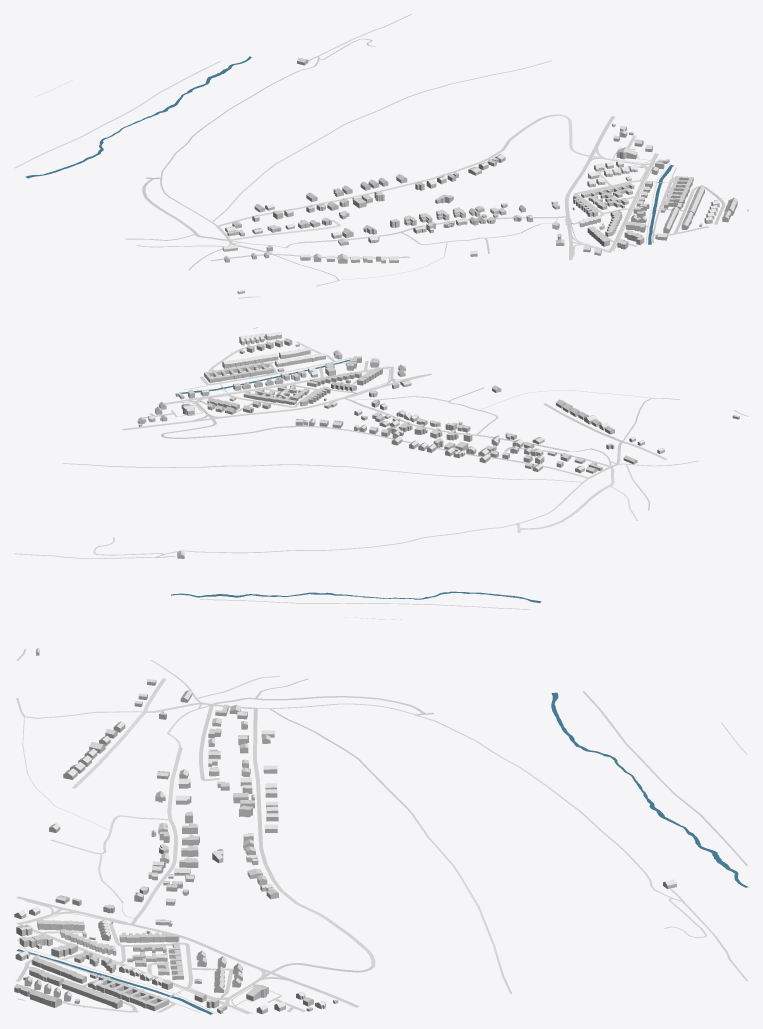
File: objekty.glb
The picture shows the model from 3 angles, top to bottom: view 1: azimuth 30°, elevation 25°; view 2: azimuth 150°, elevation 25°; view 3: azimuth 270°, elevation 25°; orthographic projection. The views are drawn at different scales.
Visible parts, largest first — view 1: Budovy_05_04, Cesty_05_04, Okna_Dvere_05_04, Voda_05_04; view 2: Budovy_05_04, Cesty_05_04, Okna_Dvere_05_04, Voda_05_04; view 3: Budovy_05_04, Cesty_05_04, Okna_Dvere_05_04, Voda_05_04.
Part boxes in pixels (bbox=[...]): Budovy_05_04: bbox=[222, 57, 737, 293]; Cesty_05_04: bbox=[14, 14, 748, 298]; Okna_Dvere_05_04: bbox=[222, 129, 737, 293]; Voda_05_04: bbox=[25, 56, 673, 244]; Budovy_05_04: bbox=[137, 332, 739, 558]; Cesty_05_04: bbox=[14, 327, 748, 619]; Okna_Dvere_05_04: bbox=[137, 335, 739, 556]; Voda_05_04: bbox=[171, 359, 541, 603]; Budovy_05_04: bbox=[14, 648, 676, 1014]; Cesty_05_04: bbox=[15, 649, 747, 1014]; Okna_Dvere_05_04: bbox=[15, 653, 672, 1012]; Voda_05_04: bbox=[16, 692, 748, 1014].
Size of the model in its own units: 1008 by 91.37 by 1009.
